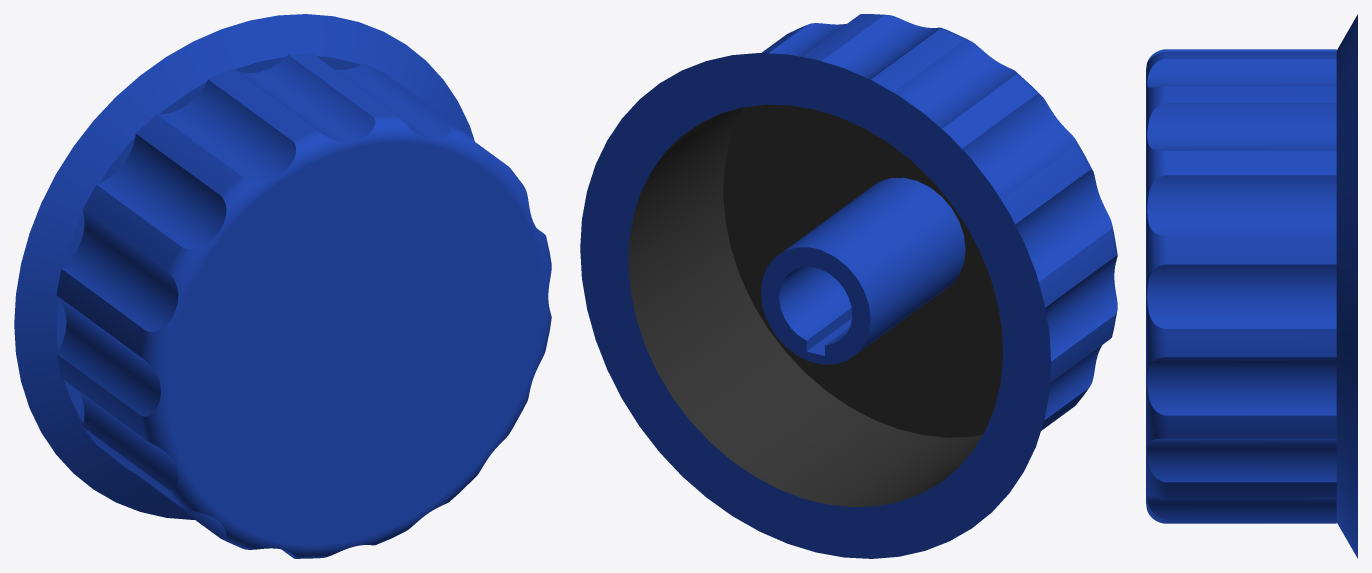
Rendered from Practice51_1.glb.
The picture shows the model from 3 angles, left to right: view 1: azimuth 30°, elevation 25°; view 2: azimuth 150°, elevation 25°; view 3: azimuth 270°, elevation 25°; orthographic projection.
Visible parts, largest first — view 1: Part 4; view 2: Part 4, Part 5; view 3: Part 4.
Boxes of the visible parts, box(x1,y1,x2,y2) form: Part 4: box(14, 14, 551, 558); Part 4: box(580, 14, 1117, 558); Part 5: box(628, 104, 1002, 507); Part 4: box(1146, 14, 1357, 558).
Bounding box in the file's own units: 0.0515 × 0.0515 × 0.02.
